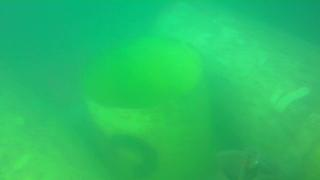3: (99, 131, 158, 180)
pipe: (153, 1, 320, 174), (80, 35, 217, 180), (2, 82, 111, 180)
